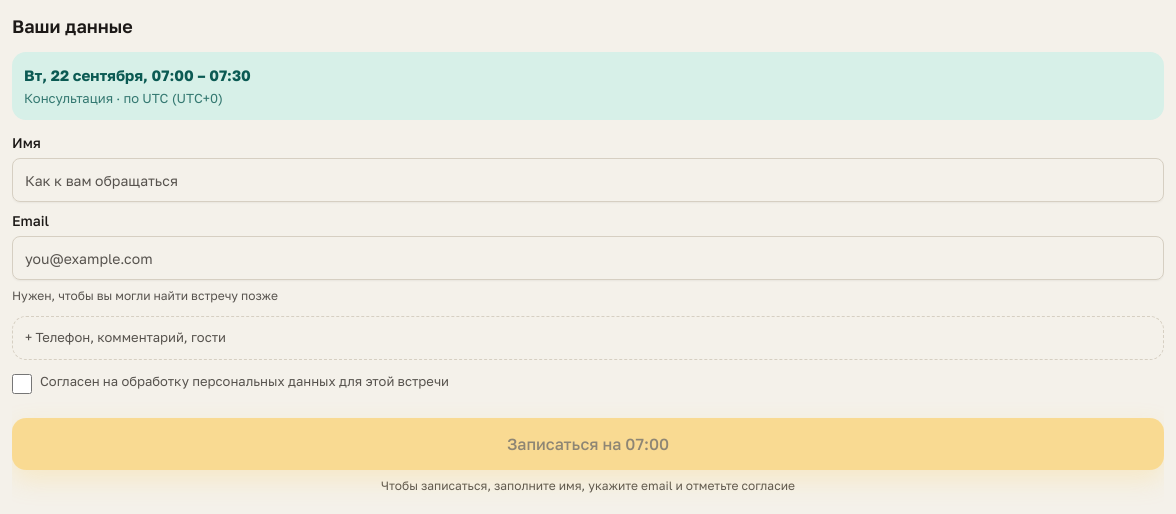
Scenario: BookingForm › показывает ошибку, если в email нет знака @
Step 1. Type "Иван" into the field labelled "Имя" → (588, 180), box top-left (12, 158), bottom-right (1164, 202)
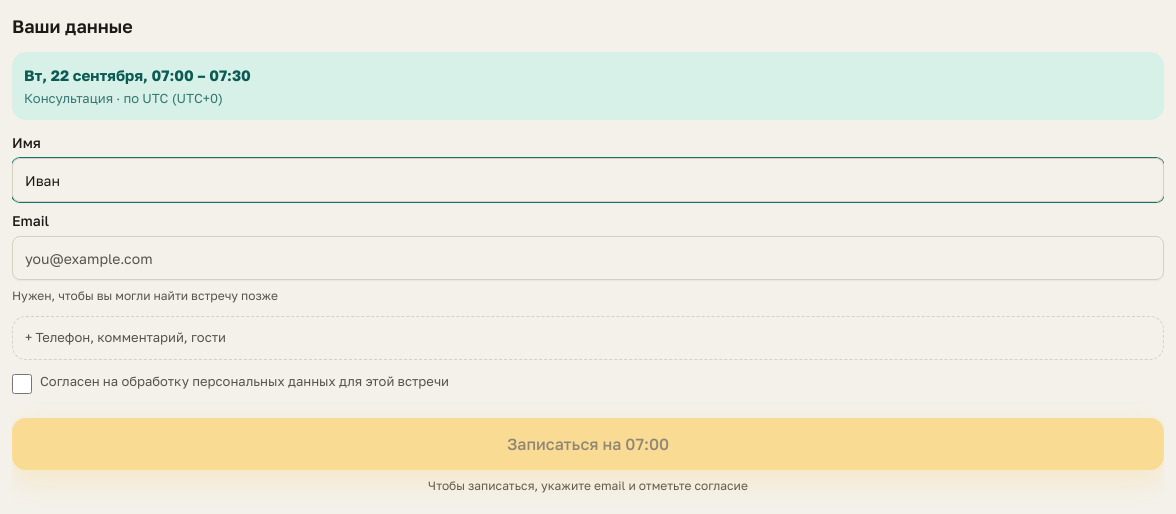
Step 2. Type "not-an-email" into the field labelled "Email" → (588, 258), box top-left (12, 236), bottom-right (1164, 280)
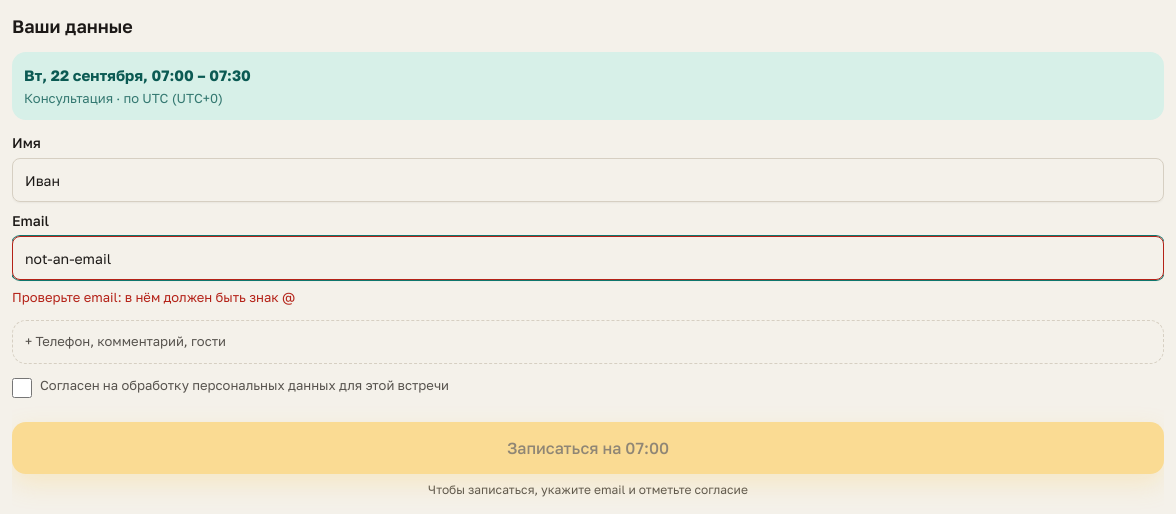
Check: the button "Записаться на 07:00" is disabled, box top-left (12, 422), bottom-right (1164, 474)
Check: the text "Проверьте email: в нём должен быть знак @" is shown, box top-left (12, 289), bottom-right (295, 305)
